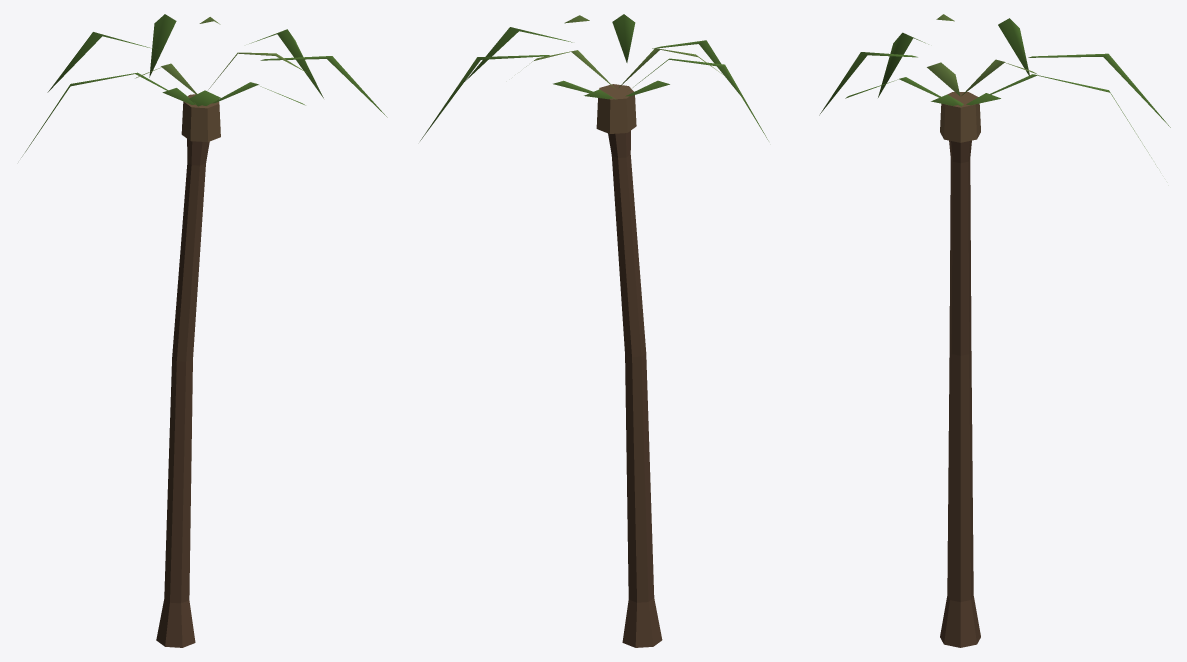
The model's file is palm.glb.
3 renders of one model, left to right at view 1: azimuth 30°, elevation 25°; view 2: azimuth 150°, elevation 25°; view 3: azimuth 270°, elevation 25°, orthographic. The views are drawn at different scales.
Parts seen in each view (by area): view 1: palm; view 2: palm; view 3: palm.
Part boxes in pixels (<box>): palm: <box>21,14,387,647</box>; palm: <box>420,14,768,647</box>; palm: <box>819,14,1170,647</box>.
Size of the model in its own units: 4.55 by 7.87 by 4.41.
